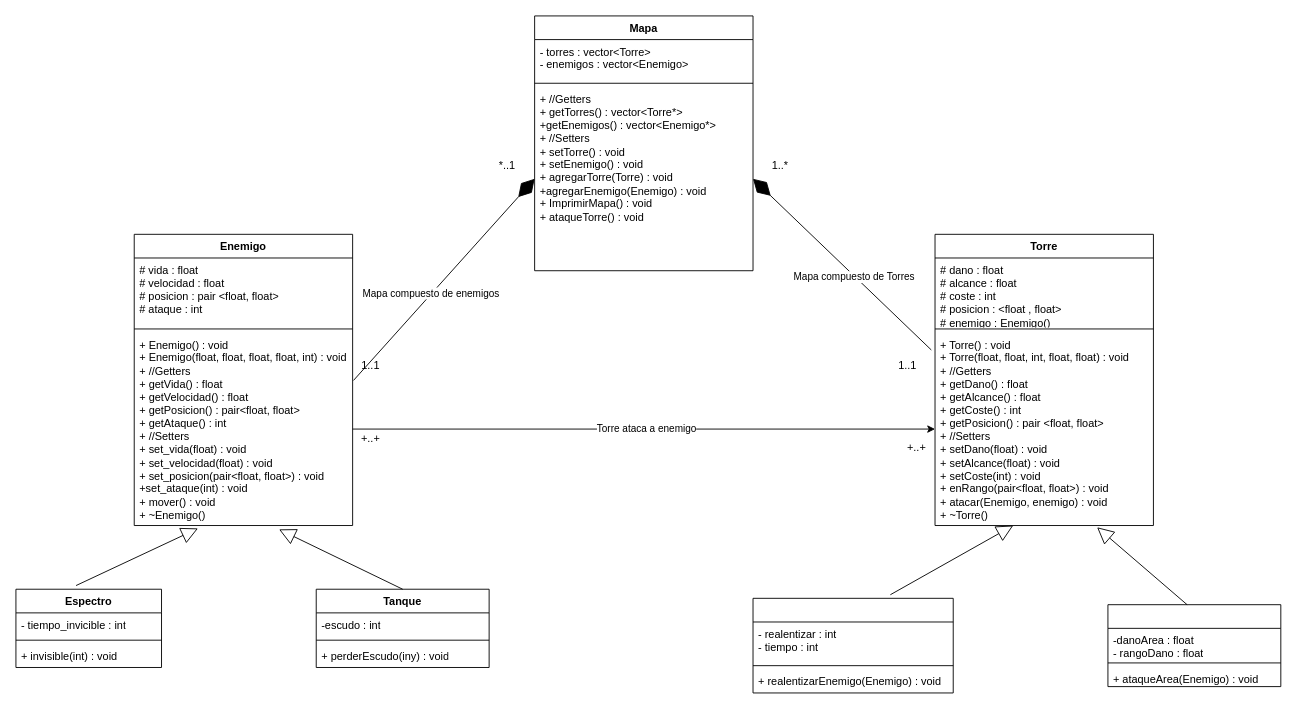
The diagram is 1297 pixels wide and 712 high, and some of its shapes have lost their labels. Here are the shapes that lost their labels. From the top down, the box of each, then its label:
(752, 597, 953, 693): Congelador
(1107, 604, 1281, 687): Explosiva
